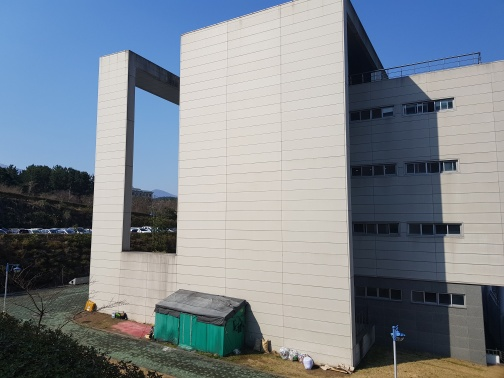Engineering College Building 4: (190, 7, 496, 363), (96, 27, 355, 341), (110, 27, 349, 353)
